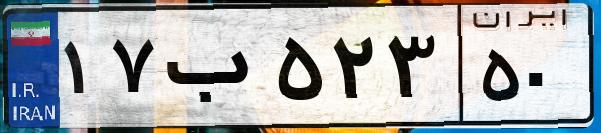0: (525, 38, 570, 115)
1: (57, 26, 110, 100)
2: (330, 28, 385, 110)
3: (385, 28, 445, 110)
5: (270, 28, 330, 110), (475, 38, 525, 113)
7: (110, 28, 158, 98)
ب: (158, 20, 270, 120)
